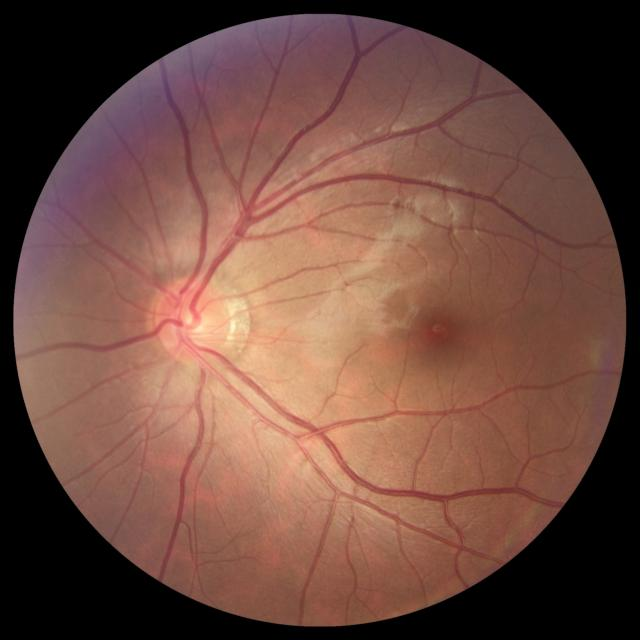OC: (173, 303, 205, 333)
OD: (152, 275, 232, 364)
